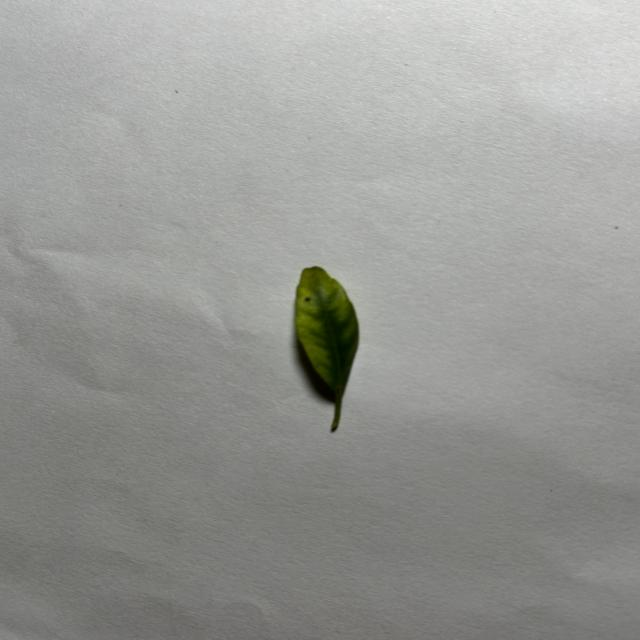greening: (296, 267, 359, 430)
